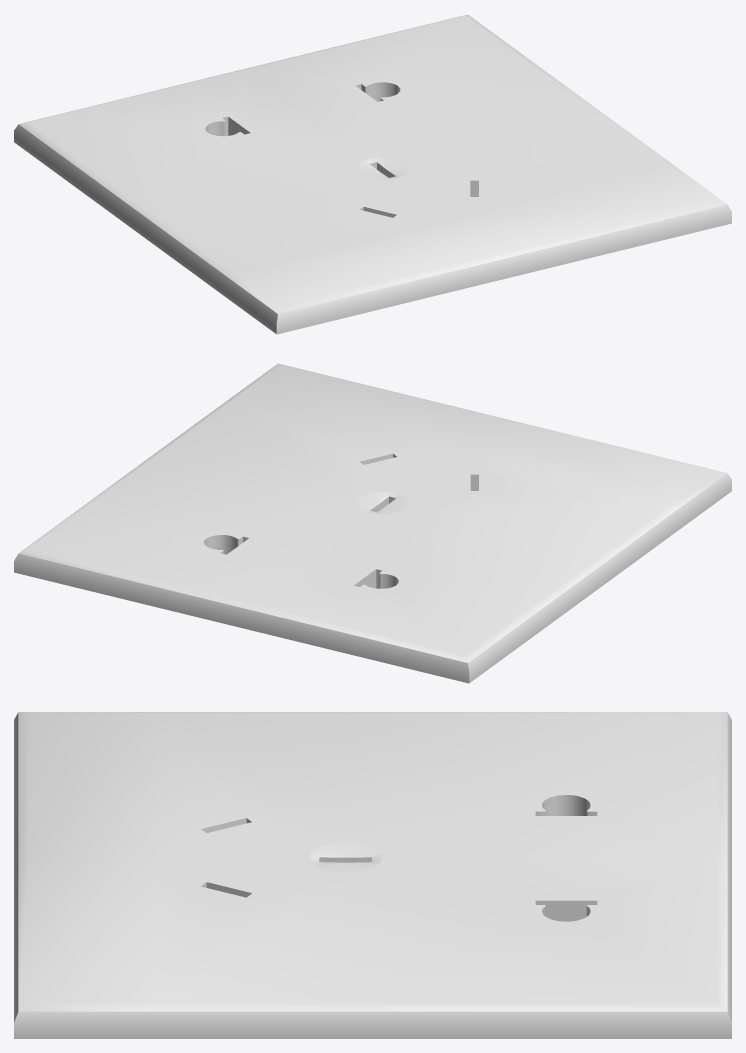
3 renders of one model, top to bottom at view 1: azimuth 30°, elevation 25°; view 2: azimuth 150°, elevation 25°; view 3: azimuth 270°, elevation 25°, orthographic. The views are drawn at different scales.
Parts seen in each view (by area): view 1: 布尔; view 2: 布尔; view 3: 布尔.
Part boxes in pixels (x1,y1,x2,y2): 布尔: (14, 14, 731, 334); 布尔: (14, 363, 731, 683); 布尔: (14, 712, 731, 1038).
Bounding box in the file's own units: 50 × 2.26 × 50.
1 material, 1 textured.
